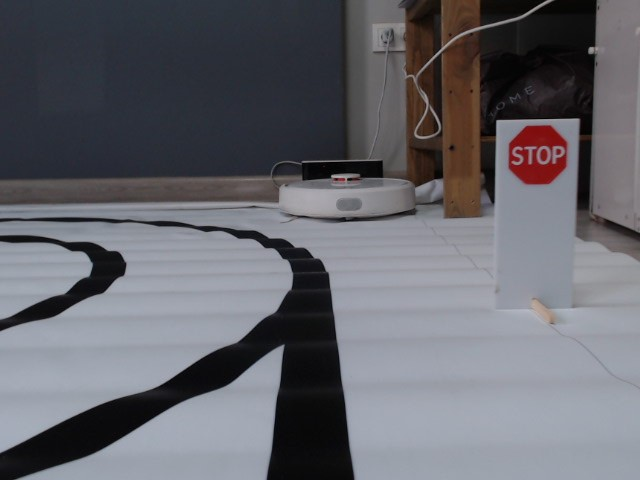Stop: (508, 125, 569, 186)
